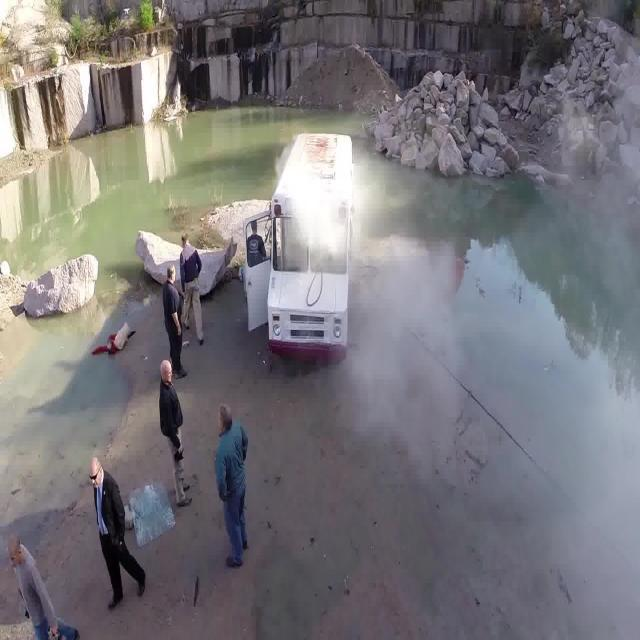Smoke: (268, 143, 458, 476)
